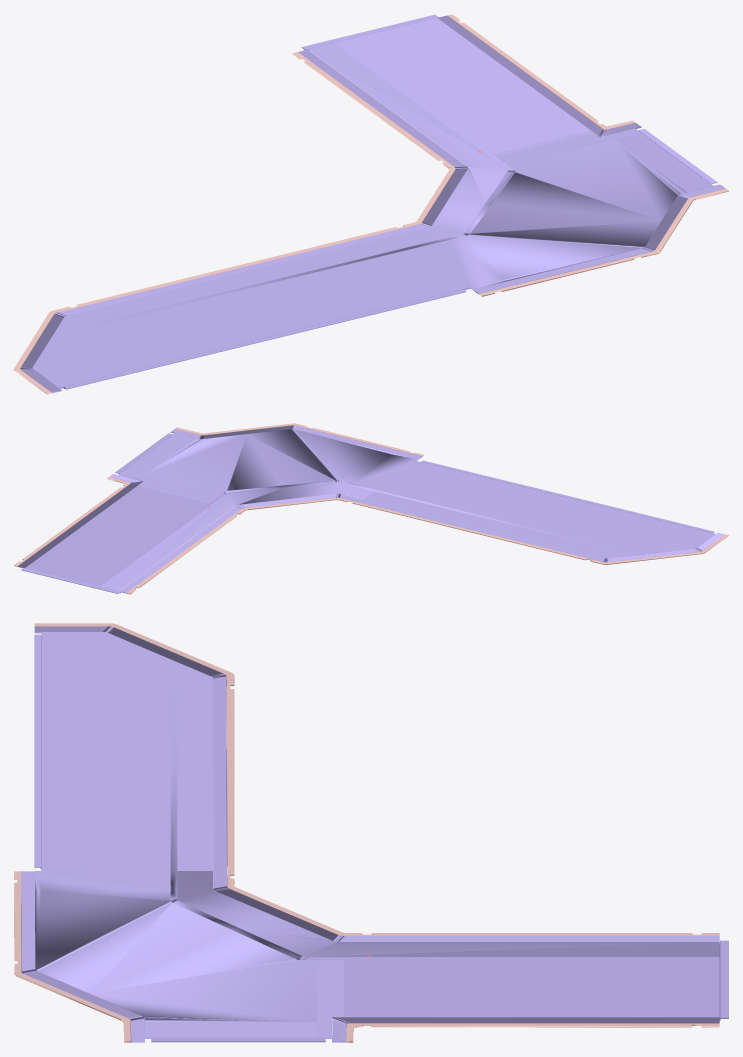
The model's file is room_b_sm_refinery_floor_entrance_a_lod1.glb.
The picture shows the model from 3 angles, top to bottom: view 1: azimuth 30°, elevation 25°; view 2: azimuth 150°, elevation 25°; view 3: azimuth 270°, elevation 25°; orthographic projection. The views are drawn at different scales.
Size of the model in its own units: 13.5 by 0.0387 by 9.75.
